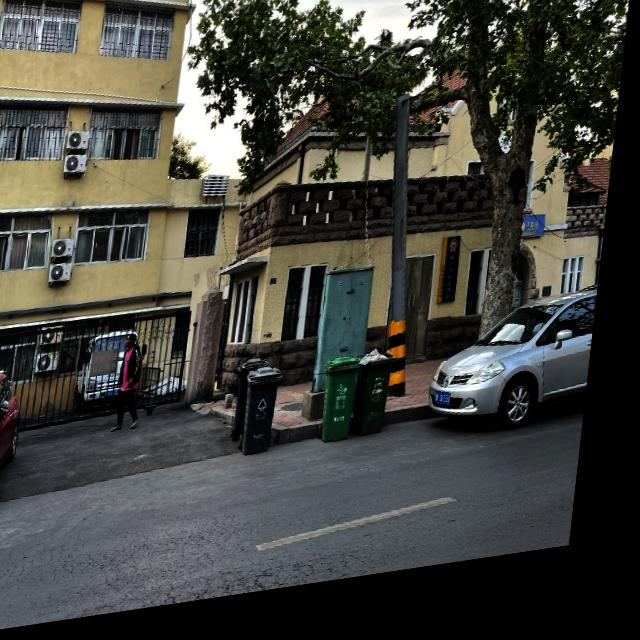garbage_bin: (248, 373, 292, 464), (327, 364, 370, 456), (241, 365, 278, 446)
overflow: (359, 357, 407, 450)
